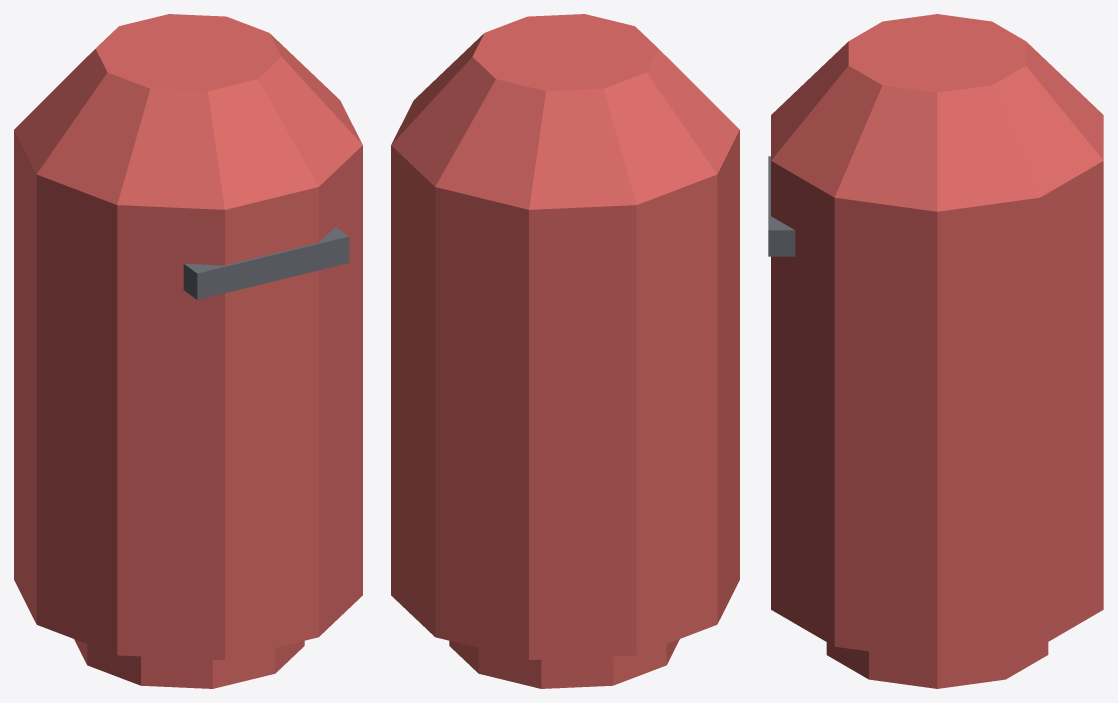
File: prop-postbox.glb
The picture shows the model from 3 angles, left to right: view 1: azimuth 30°, elevation 25°; view 2: azimuth 150°, elevation 25°; view 3: azimuth 270°, elevation 25°; orthographic projection.
Parts seen in each view (by area): view 1: postbox-body, postbox-cap, postbox-slot; view 2: postbox-body, postbox-cap; view 3: postbox-body, postbox-cap, postbox-slot.
Boxes of the visible parts, x1=… form: postbox-body: x1=14, y1=130, x2=362, y2=688; postbox-cap: x1=14, y1=14, x2=362, y2=209; postbox-slot: x1=183, y1=226, x2=349, y2=299; postbox-body: x1=391, y1=130, x2=739, y2=688; postbox-cap: x1=391, y1=14, x2=739, y2=209; postbox-body: x1=771, y1=161, x2=1103, y2=688; postbox-cap: x1=771, y1=14, x2=1103, y2=211; postbox-slot: x1=768, y1=156, x2=795, y2=256.
Size of the model in its own units: 0.6 by 1.11 by 0.5753.
